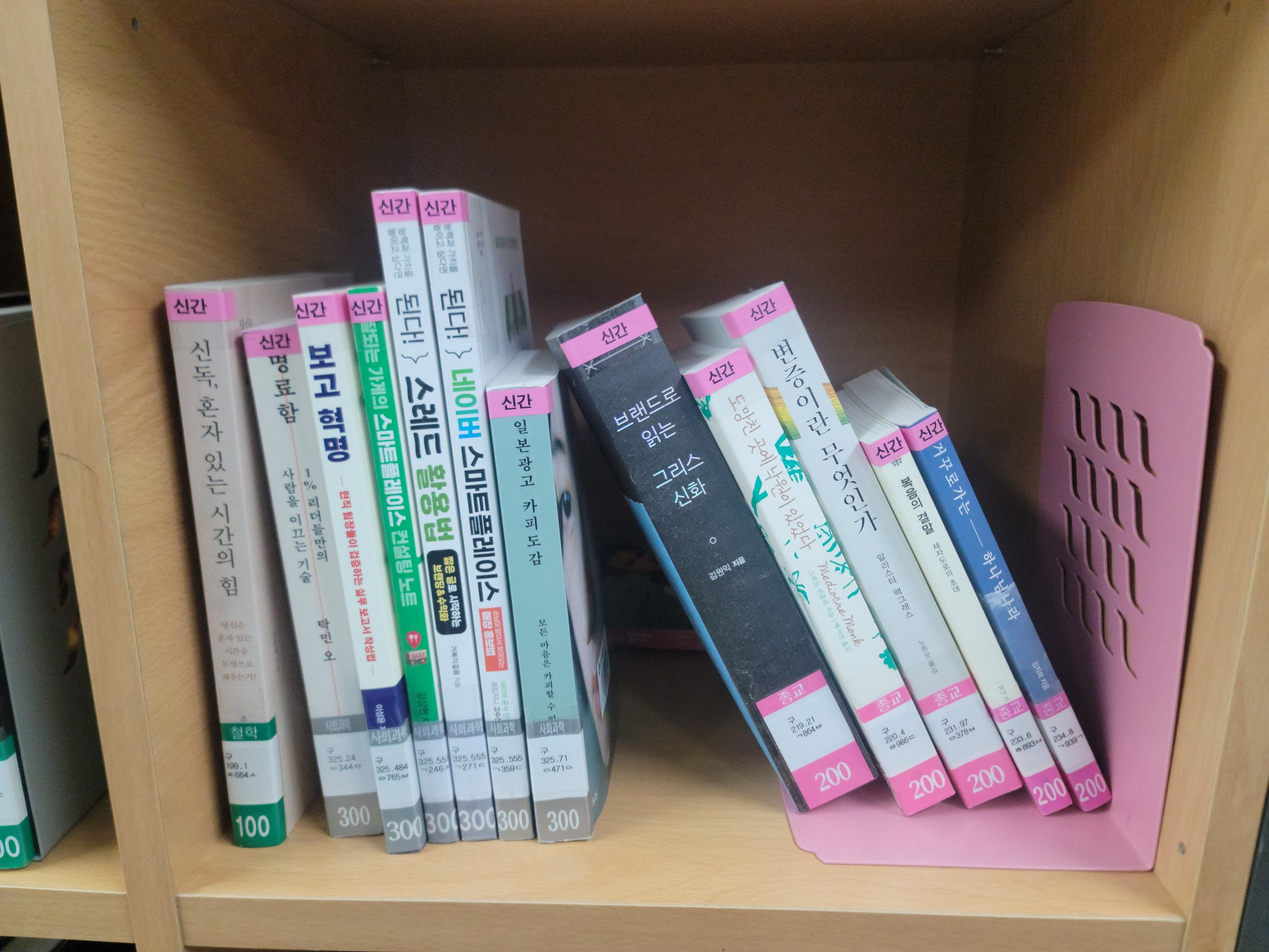book-spine: (558, 291, 899, 822), (729, 277, 1032, 809), (685, 347, 967, 817), (908, 409, 1113, 813), (372, 190, 498, 842), (868, 427, 1074, 818), (241, 322, 386, 850), (418, 194, 534, 842), (292, 295, 422, 854), (164, 289, 284, 856), (347, 292, 459, 845), (486, 389, 593, 845), (0, 740, 27, 870)
